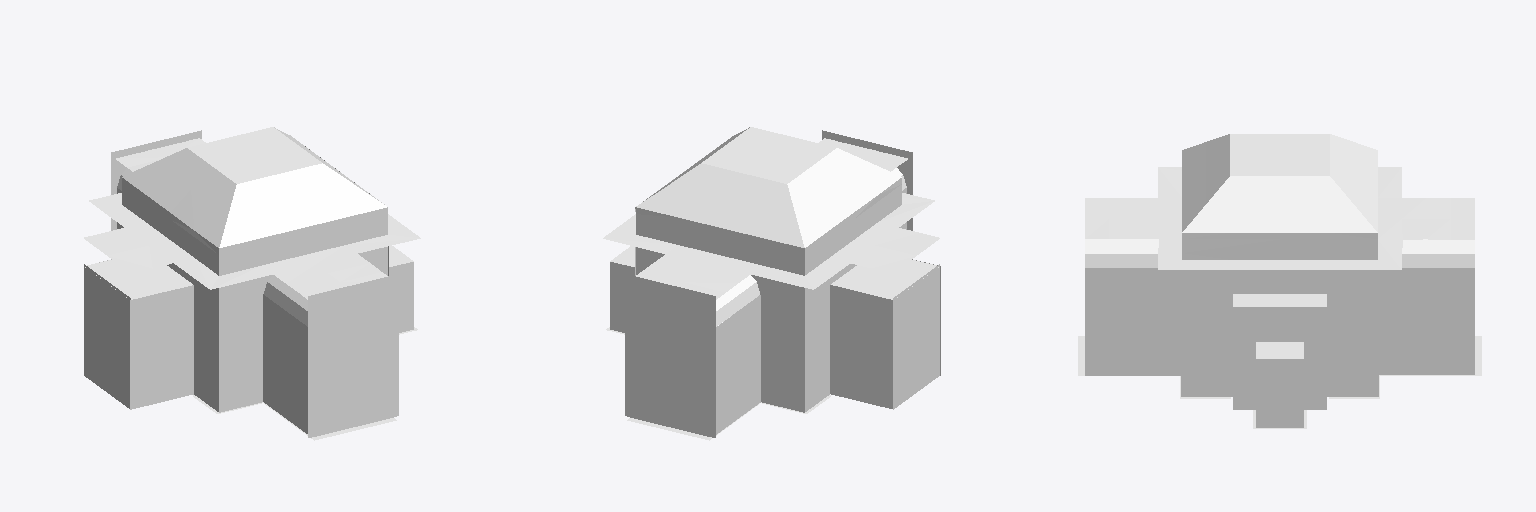
File: FRO.obj
The picture shows the model from 3 angles: view 1: azimuth 30°, elevation 25°; view 2: azimuth 150°, elevation 25°; view 3: azimuth 270°, elevation 25°; orthographic projection.
Parts seen in each view (by area): view 1: FRO; view 2: FRO; view 3: FRO.
Part boxes in pixels (left/top/right/bottom): FRO: left=84, top=127, right=420, bottom=440; FRO: left=603, top=127, right=940, bottom=440; FRO: left=1078, top=134, right=1481, bottom=428.
Size of the model in its own units: 141 by 91.24 by 166.